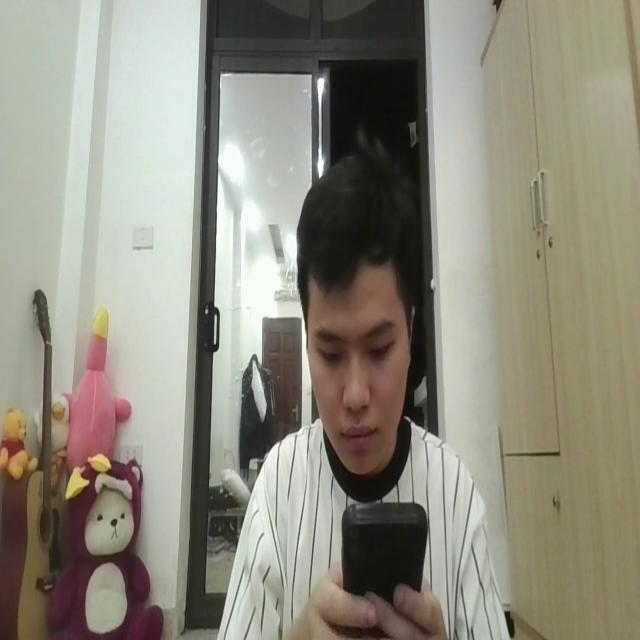phone: (342, 489, 430, 612)
student: (227, 132, 510, 640)
